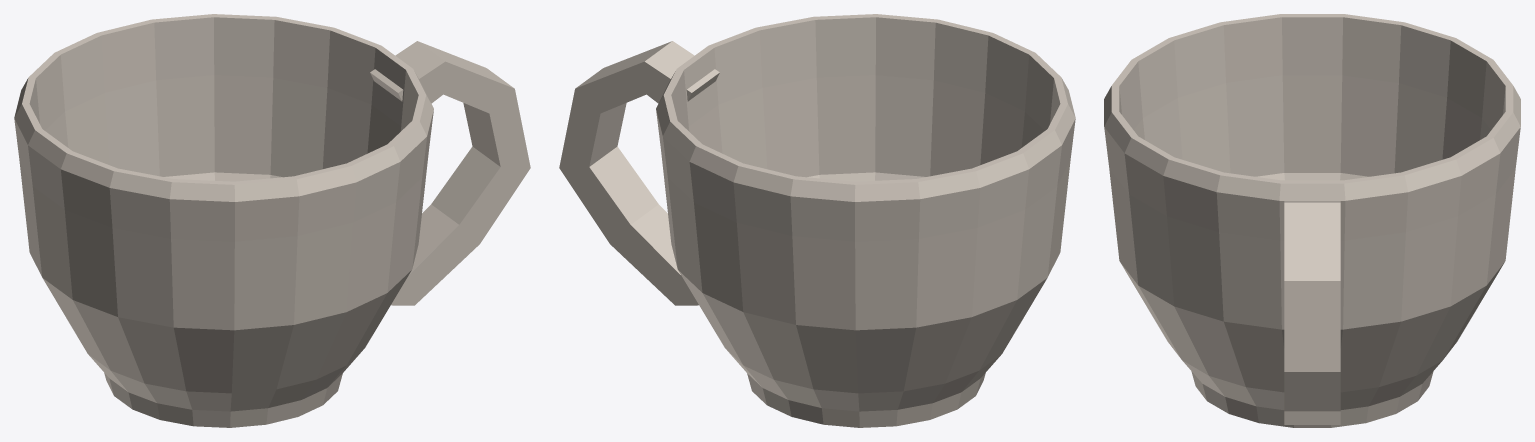
Rendered from SM_Cook_CoffeeMug_01.fbx.
3 renders of one model, left to right at view 1: azimuth 30°, elevation 25°; view 2: azimuth 150°, elevation 25°; view 3: azimuth 270°, elevation 25°, orthographic.
Visible parts, largest first — view 1: SM_Cook_CoffeeMug_01; view 2: SM_Cook_CoffeeMug_01; view 3: SM_Cook_CoffeeMug_01.
Part boxes in pixels (x1,y1,x2,y2): SM_Cook_CoffeeMug_01: [14, 14, 530, 427]; SM_Cook_CoffeeMug_01: [559, 14, 1075, 427]; SM_Cook_CoffeeMug_01: [1104, 14, 1520, 427].
Size of the model in its own units: 0.1064 by 0.06 by 0.081.
1 material, 1 textured.
